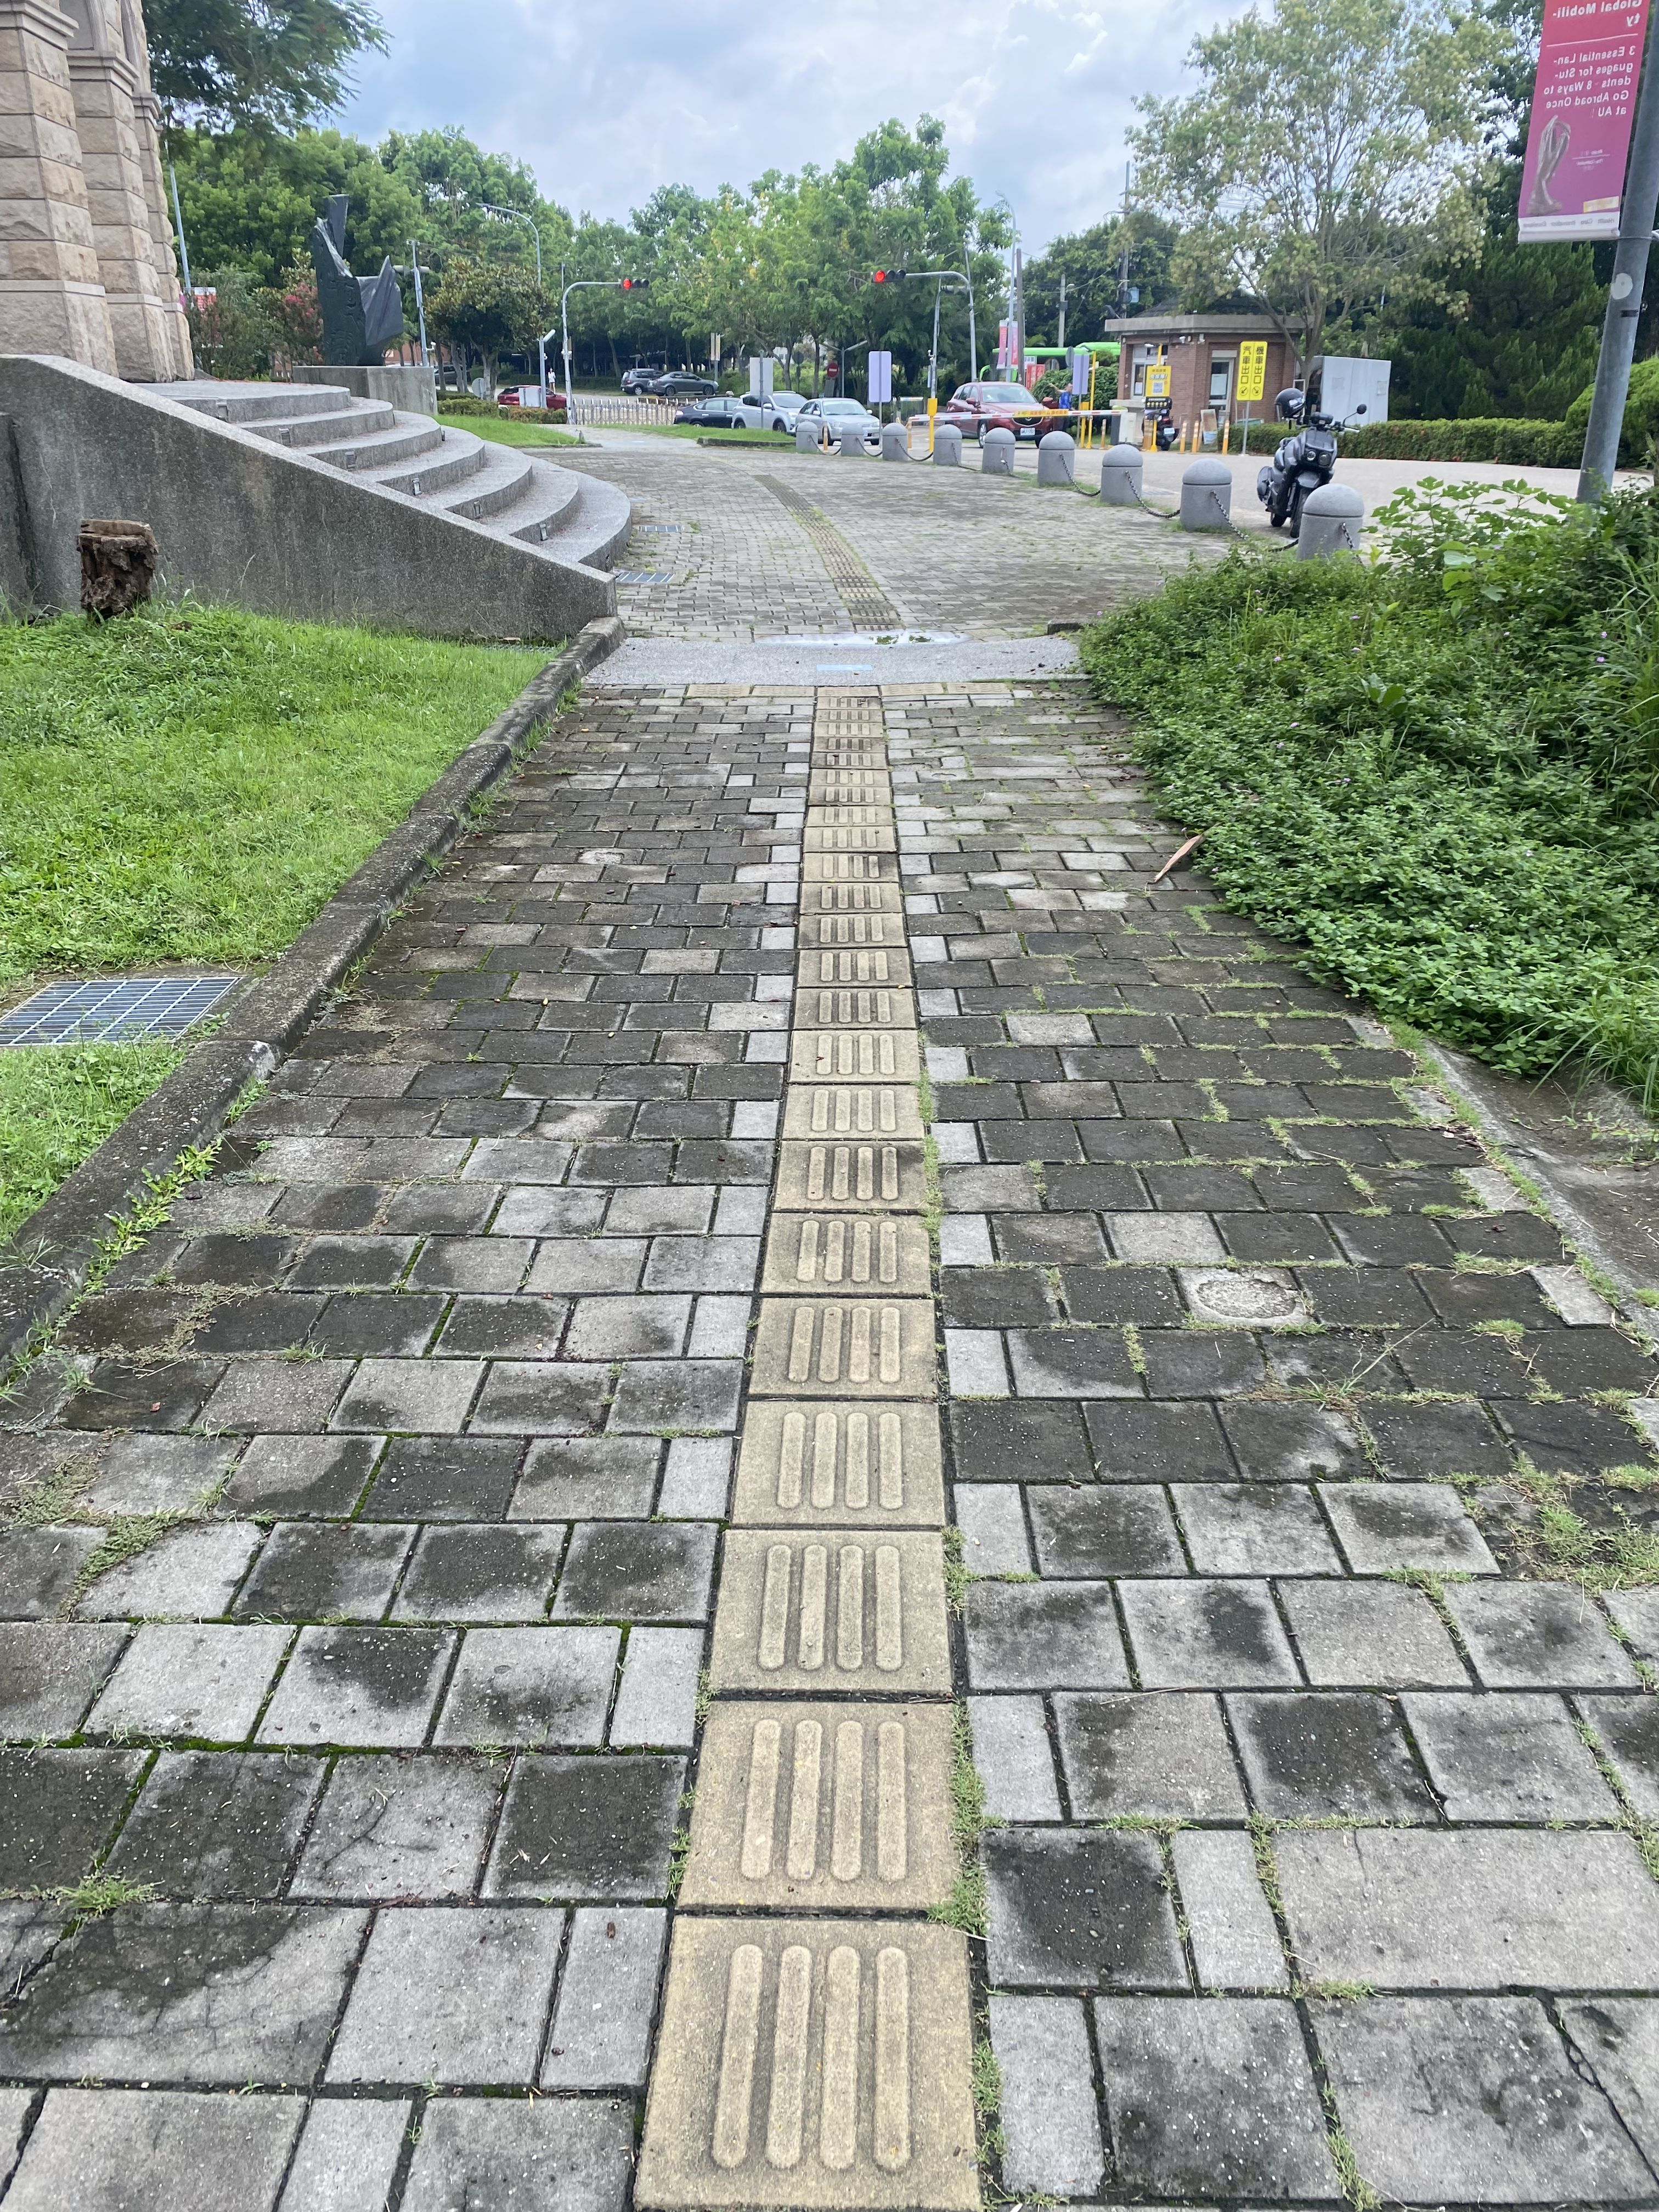0: (3, 669, 1659, 2212)
sidewalk: (502, 395, 1258, 815)
